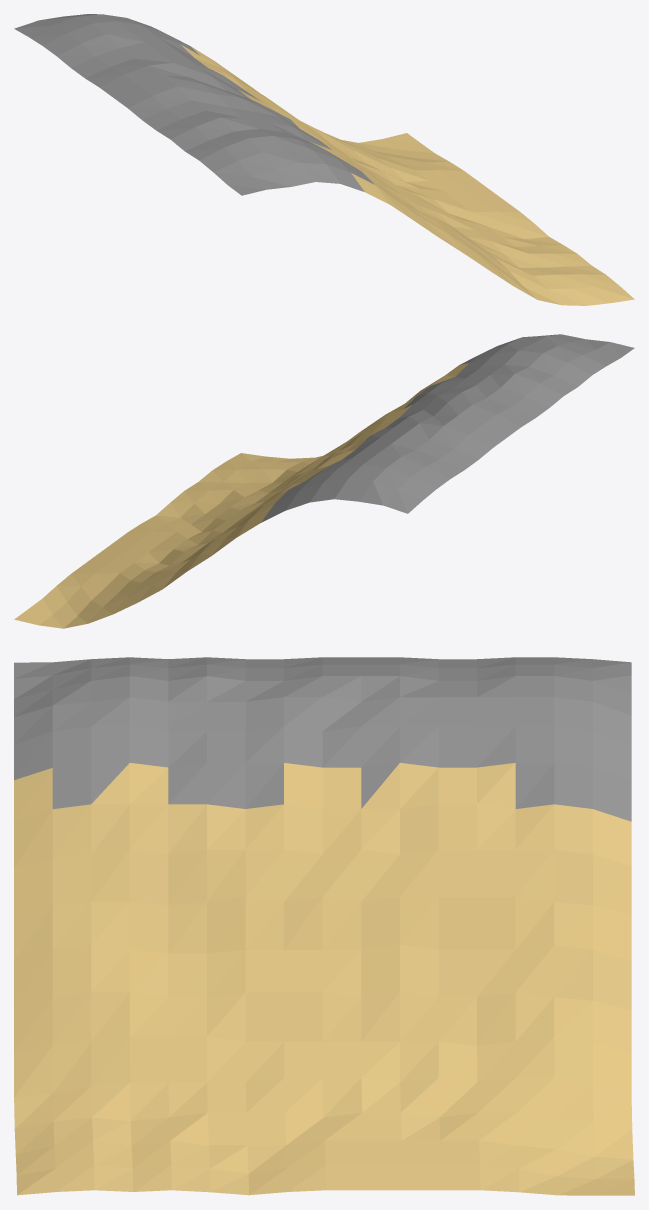
Rendered from ground6.fbx.
The picture shows the model from 3 angles, top to bottom: view 1: azimuth 30°, elevation 25°; view 2: azimuth 150°, elevation 25°; view 3: azimuth 270°, elevation 25°; orthographic projection. The views are drawn at different scales.
Visible parts, largest first — view 1: Plane; view 2: Plane; view 3: Plane.
Part boxes in pixels (bbox=[...]): Plane: bbox=[14, 14, 634, 305]; Plane: bbox=[14, 334, 634, 628]; Plane: bbox=[14, 657, 634, 1195].
Bounding box in the file's own units: 99.9 × 52.09 × 101.
Materials: 1 (1 with a texture image).
